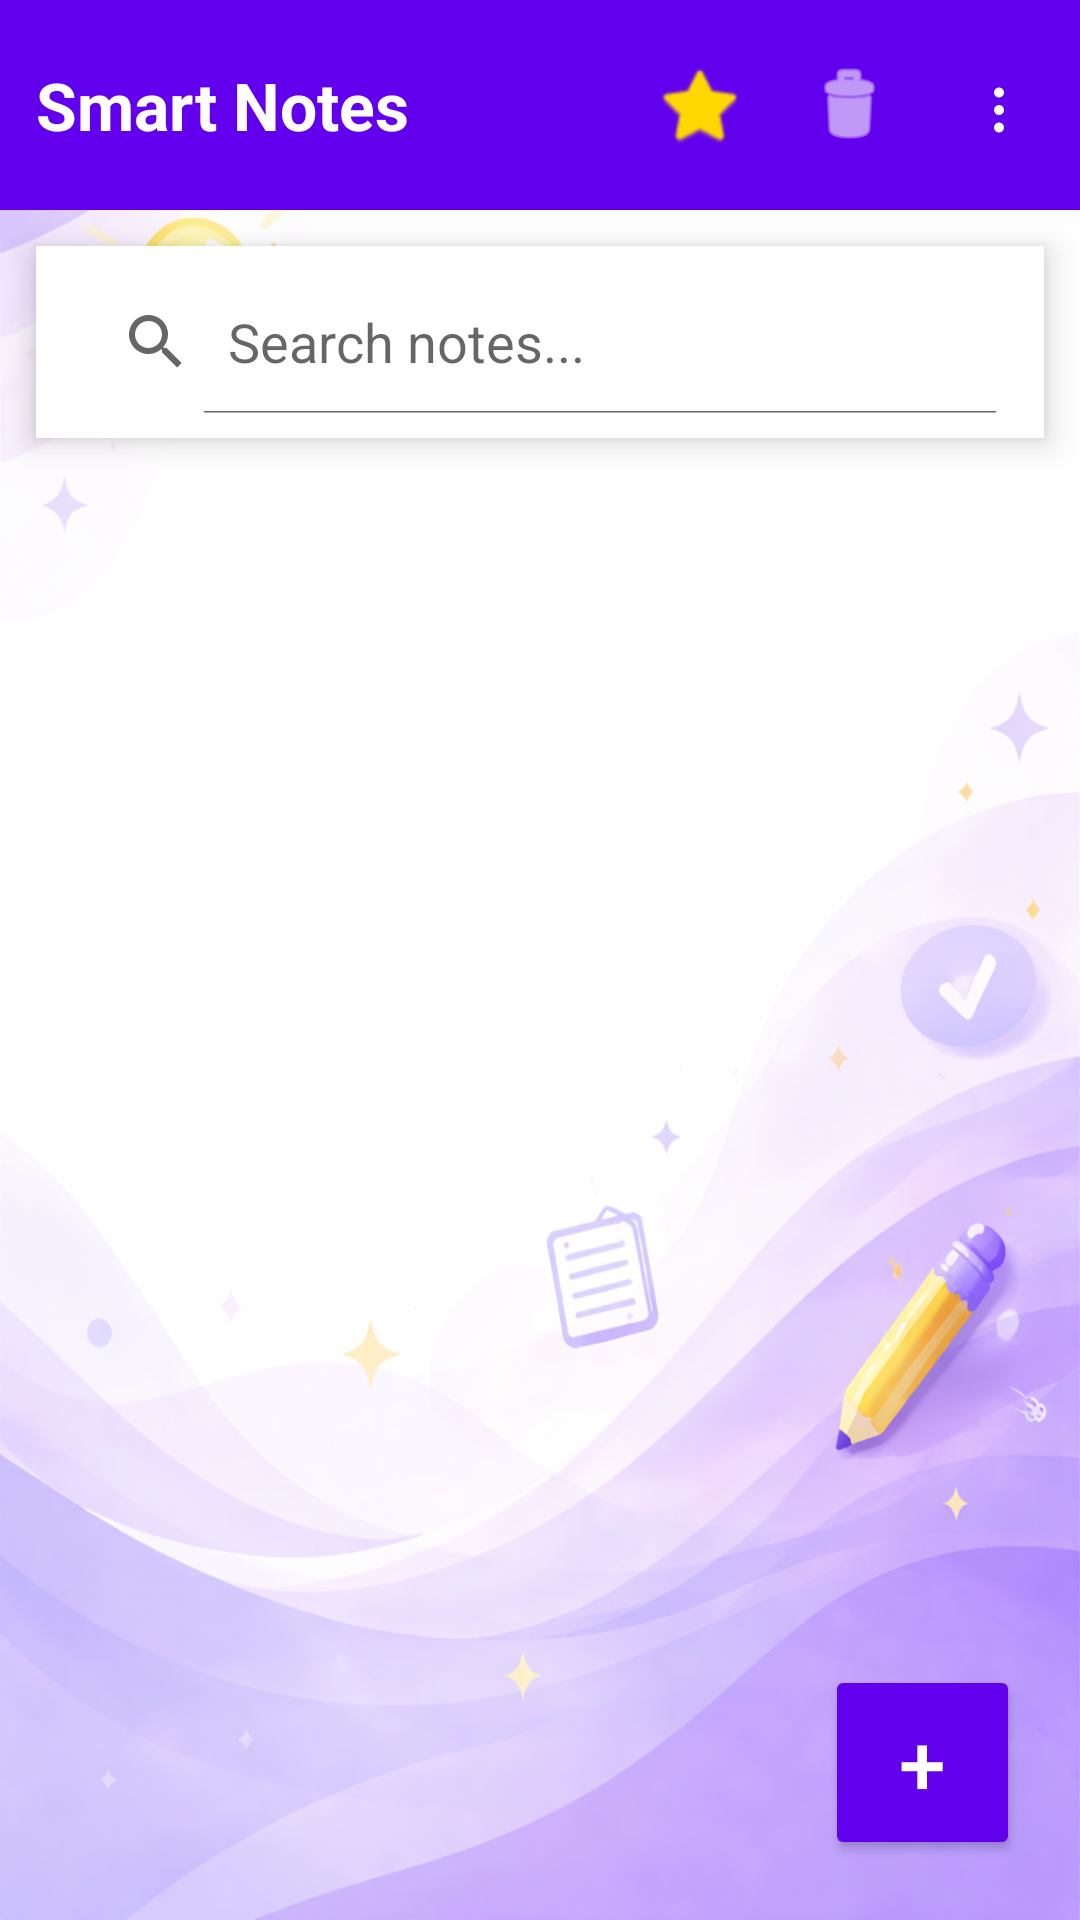

Icons on this 1080w x 1920h Android screen, each with its box as (x1, y1, x2, y2):
delete: (824, 68, 875, 139)
more vert: (994, 87, 1004, 133)
star on: (662, 69, 737, 142)
